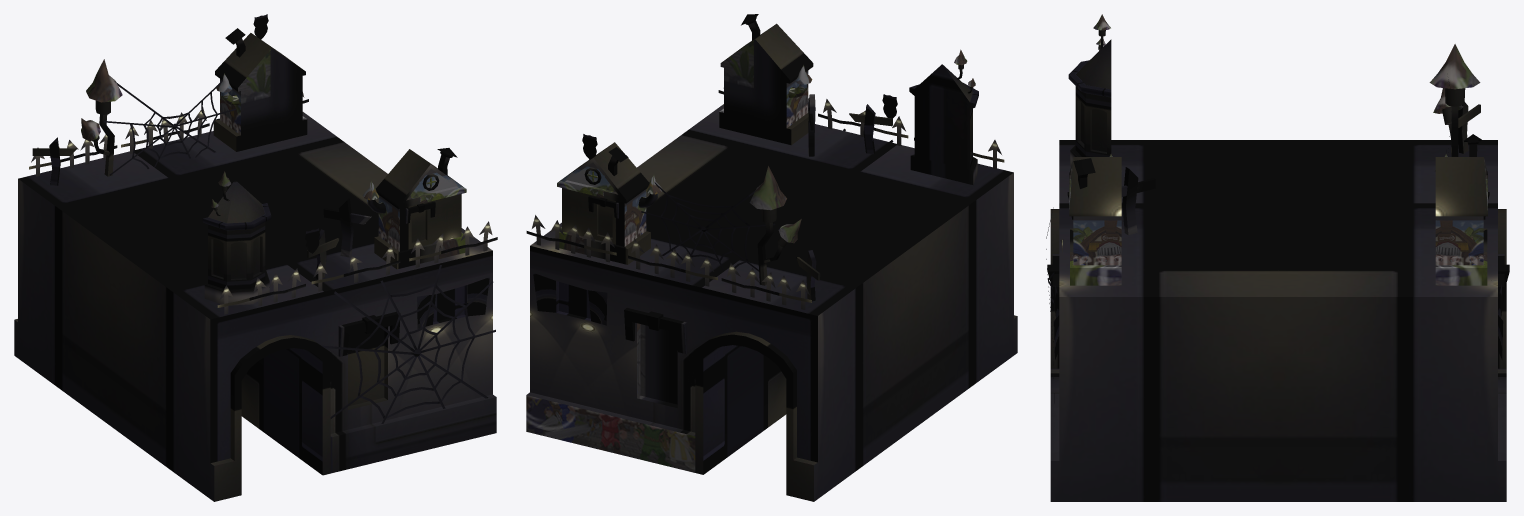
File: modelTunnelL(2).fbx
3 views of the same model, side by side, from view 1: azimuth 30°, elevation 25°; view 2: azimuth 150°, elevation 25°; view 3: azimuth 270°, elevation 25° (orthographic). The views are drawn at different scales.
Visible parts, largest first — view 1: modelTunnerR; view 2: modelTunnerR; view 3: modelTunnerR.
Part boxes in pixels (x1=…): modelTunnerR: x1=14, y1=14, x2=497, y2=501; modelTunnerR: x1=526, y1=14, x2=1017, y2=501; modelTunnerR: x1=1046, y1=14, x2=1509, y2=501.
Size of the model in its own units: 692 by 703 by 845.
